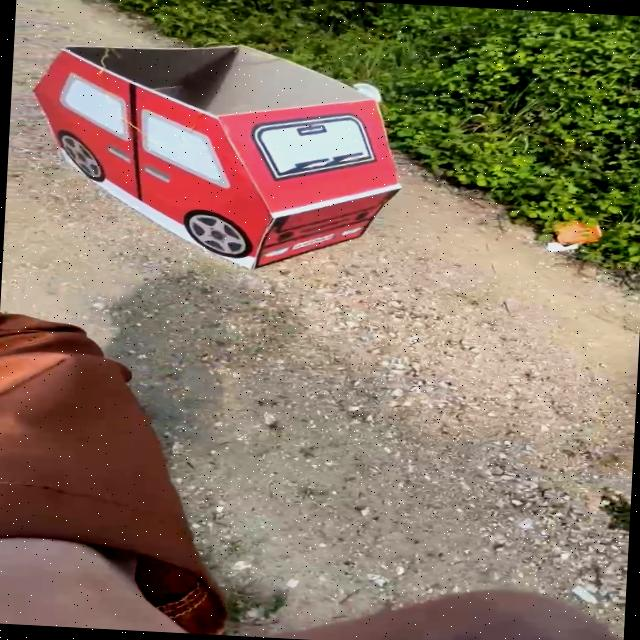red_car: (3, 18, 451, 287)
